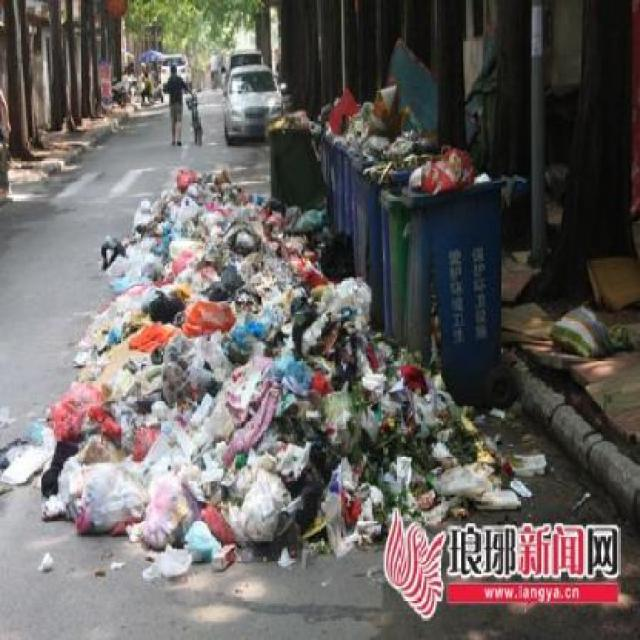garbage: (131, 179, 350, 540), (59, 383, 520, 516), (334, 86, 458, 199)
